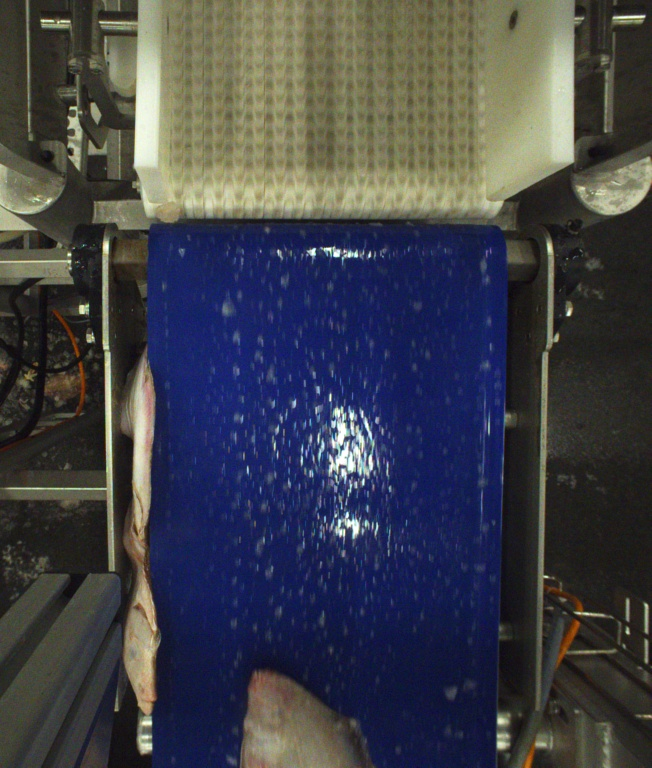WIT: (236, 666, 377, 768)
